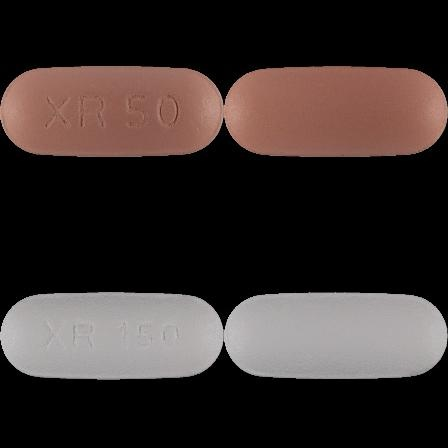64725-0280: (0, 0, 224, 224)
